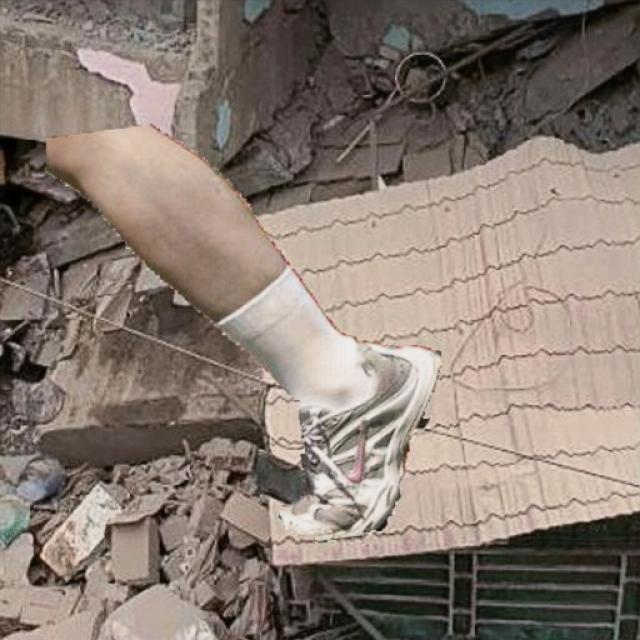Person in Rubble: (46, 124, 440, 542)
